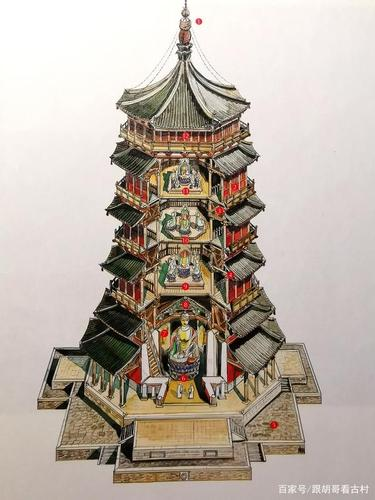buildings: (75, 72, 312, 498)
